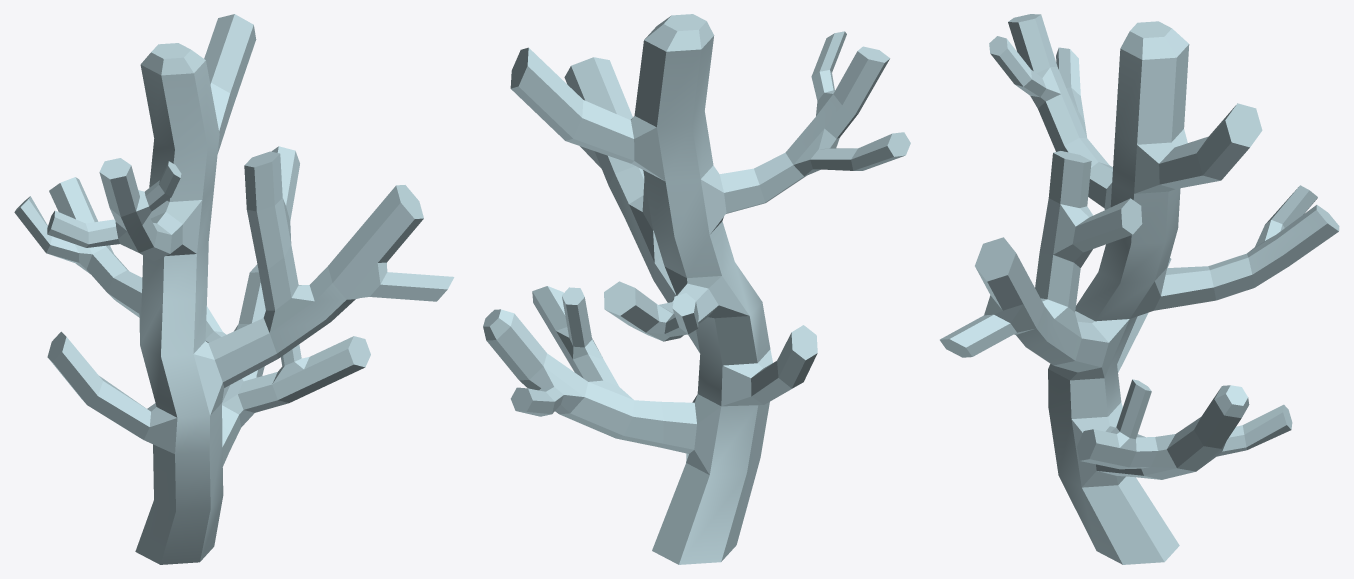
File: coral3.fbx
The picture shows the model from 3 angles, left to right: view 1: azimuth 30°, elevation 25°; view 2: azimuth 150°, elevation 25°; view 3: azimuth 270°, elevation 25°; orthographic projection. The views are drawn at different scales.
Parts seen in each view (by area): view 1: pCylinder108; view 2: pCylinder108; view 3: pCylinder108.
Boxes of the visible parts, x1,y1,x2,y2 form: pCylinder108: (14,14,454,564); pCylinder108: (483,14,910,564); pCylinder108: (940,14,1339,564).
Size of the model in its own units: 1.73 by 2.28 by 1.59.
